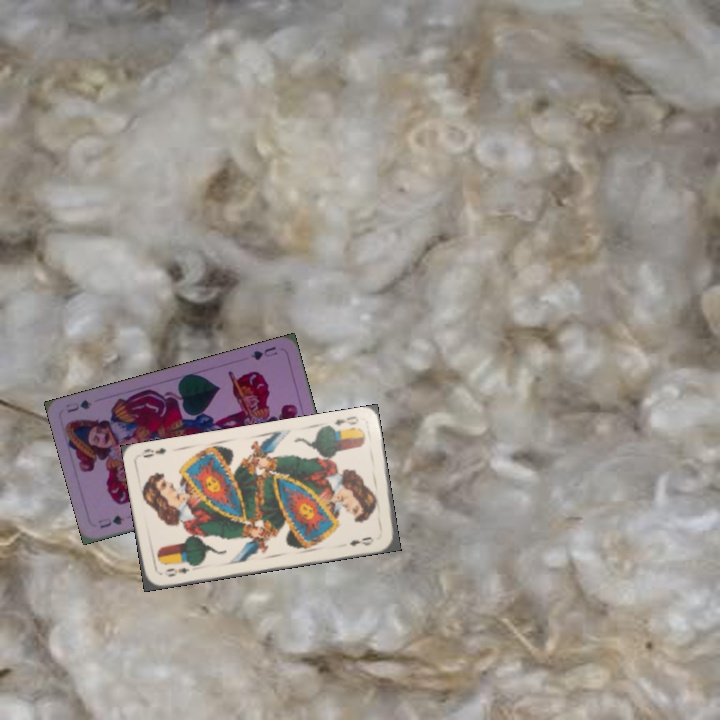EO: (162, 563, 192, 579), (331, 412, 361, 428)
GU: (247, 342, 280, 363), (94, 511, 127, 531)
